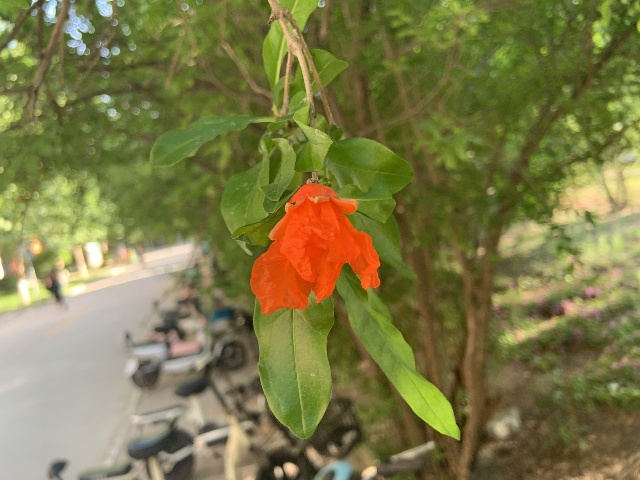flower: (250, 183, 380, 313)
